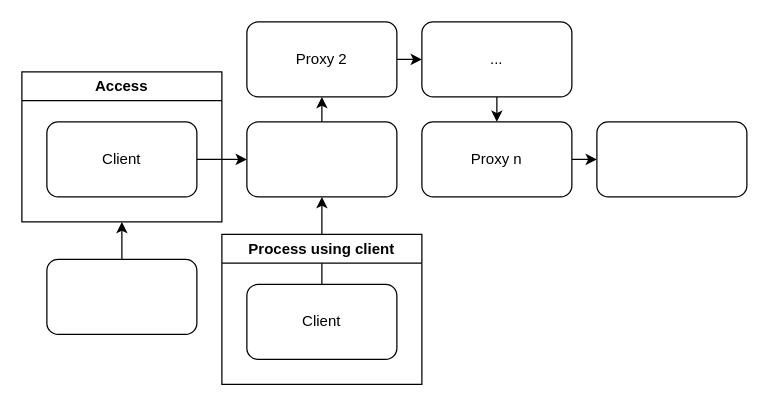
Image size: 769x406. Some labels were removed from this diagram. The shapes that lost their labels are listed below. From the top down, each one's centre as x and y in pixels, then its label:
At (x=321, y=159): "Proxy 1".
At (x=671, y=159): "Origin server".
At (x=121, y=296): "Process using pure TCP/UDP socket".
